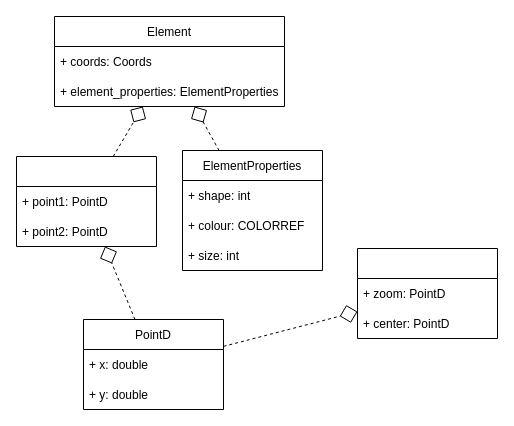
Image size: 514x426. Some labels were removed from this diagram. The box of each missing label's shape, as (x1, y1, x2, y2) in pixels:
Coords: (16, 156, 156, 246)
Display: (356, 248, 498, 338)
